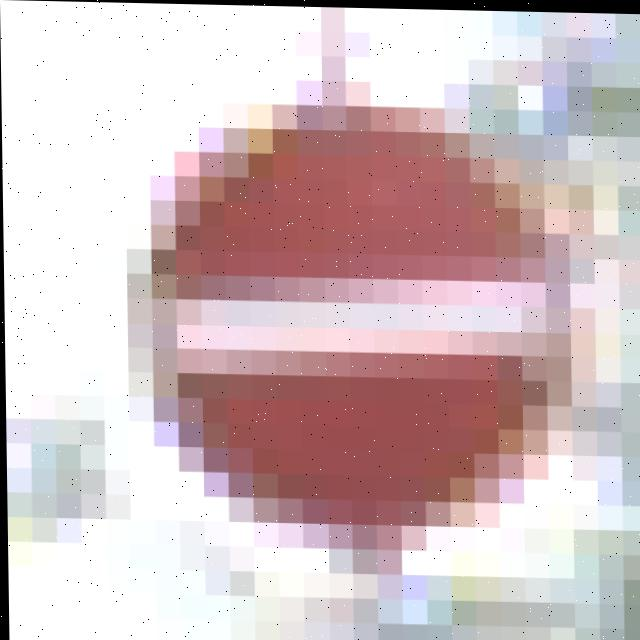road_rough: (132, 60, 588, 587)
